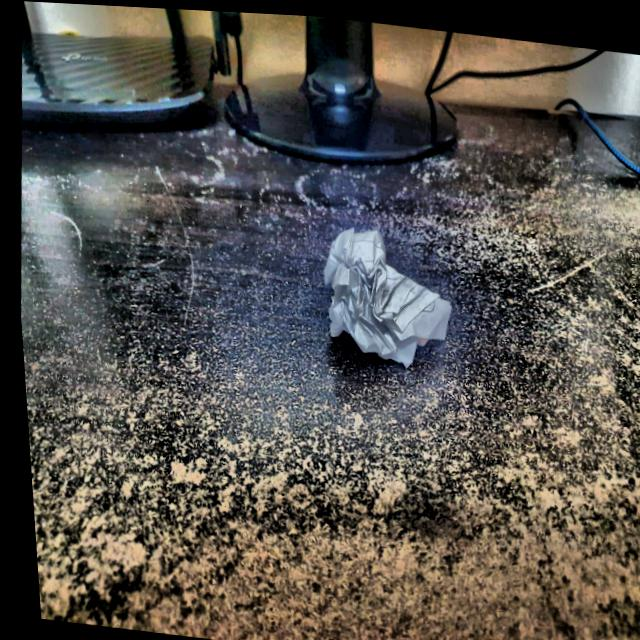Paper: (309, 217, 460, 375)
